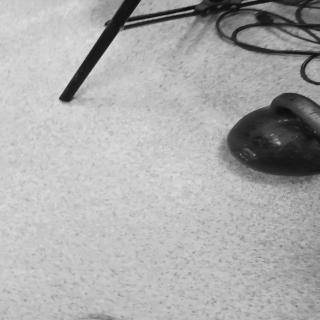kettlebell: (226, 92, 320, 178)
